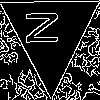N: (25, 9, 66, 46)
